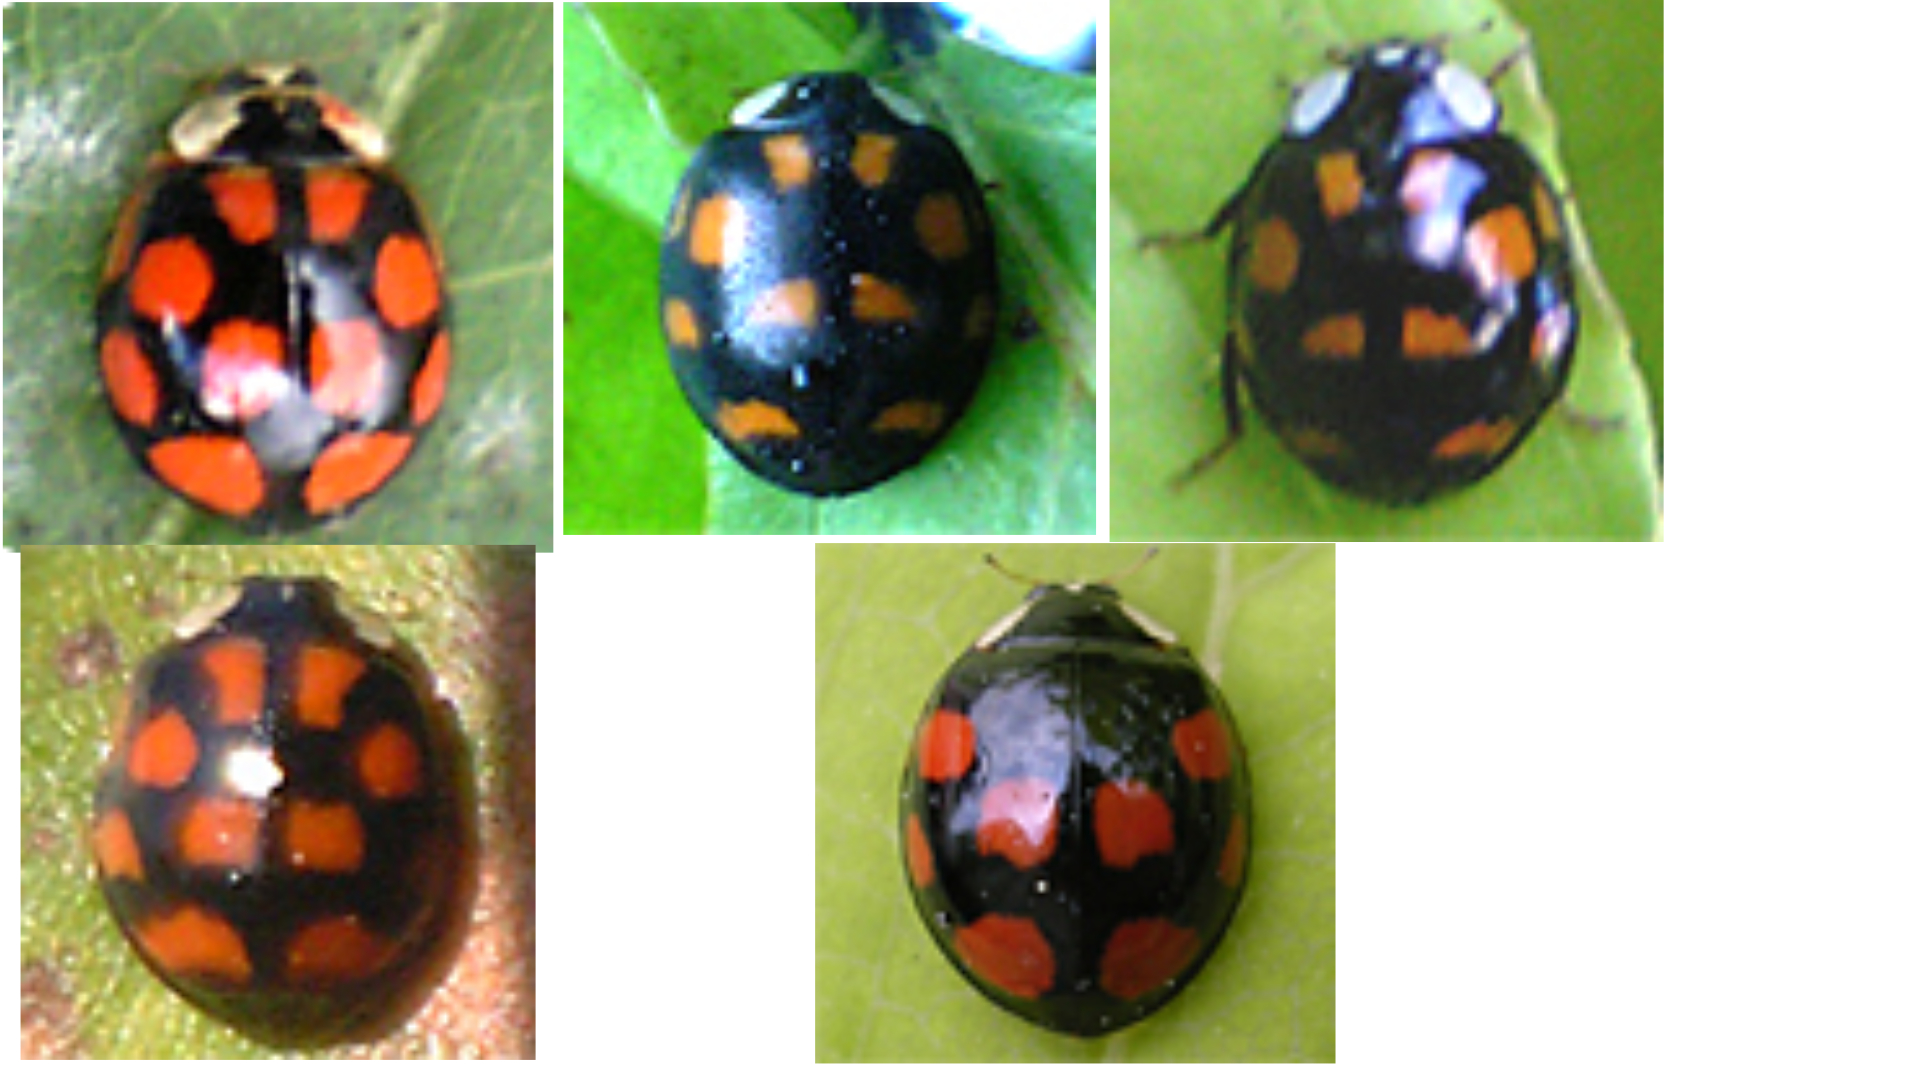rash: (86, 575, 462, 1039), (1220, 42, 1584, 506), (100, 49, 444, 525), (889, 582, 1237, 1025), (651, 76, 998, 484)
